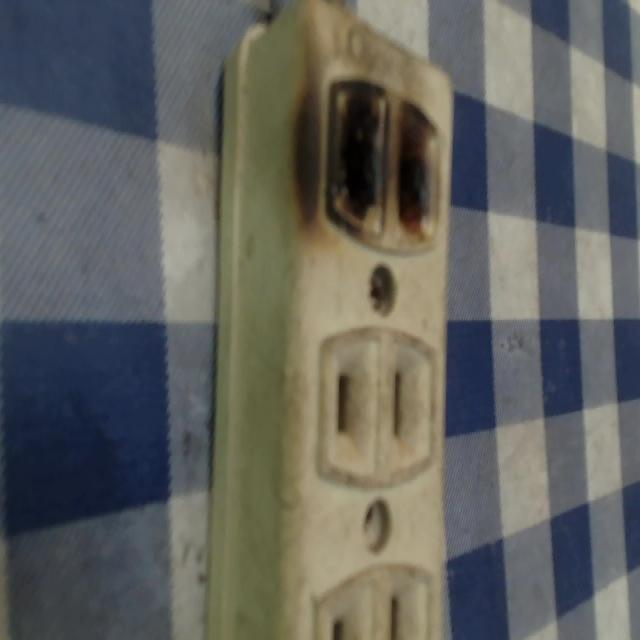-: (309, 60, 442, 247)
